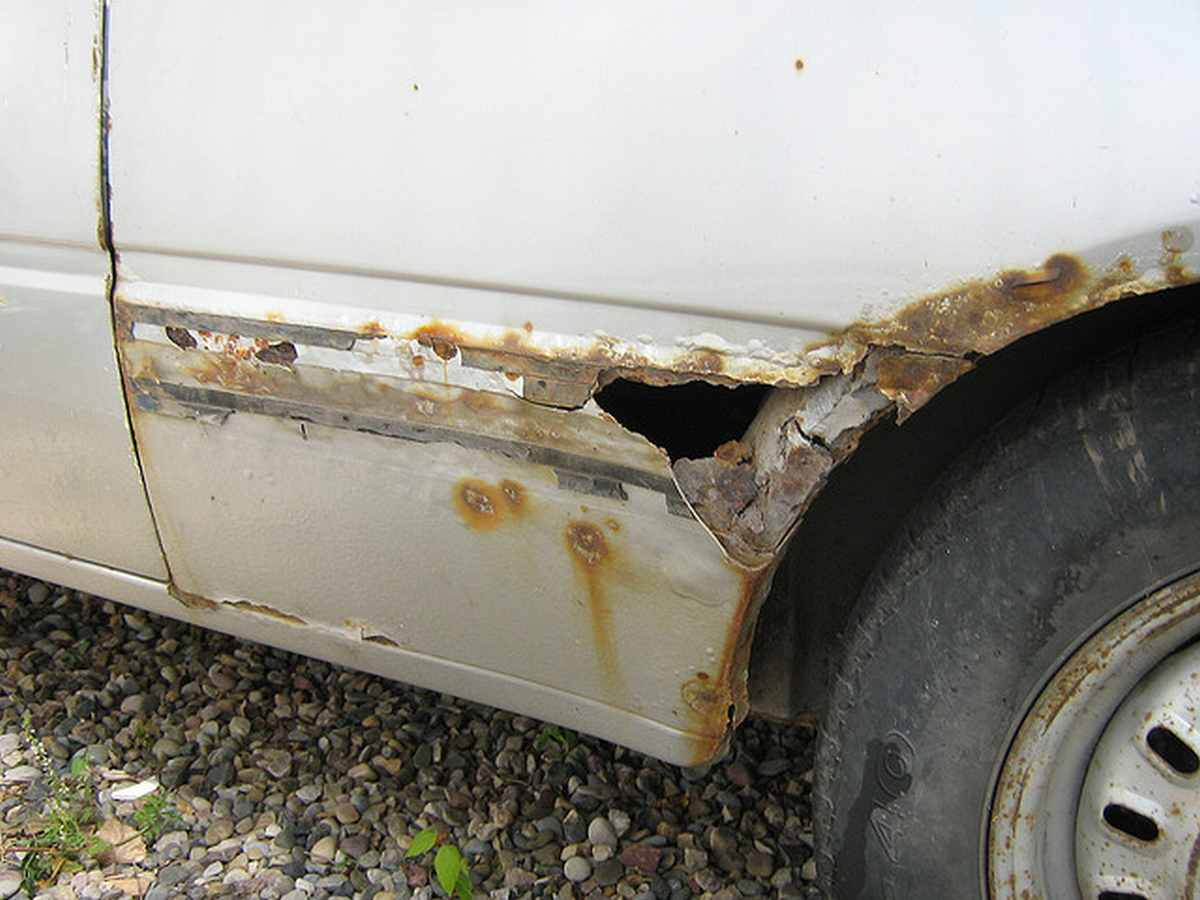rust: (401, 326, 631, 442), (451, 475, 641, 580), (678, 552, 771, 761), (150, 319, 309, 378)
